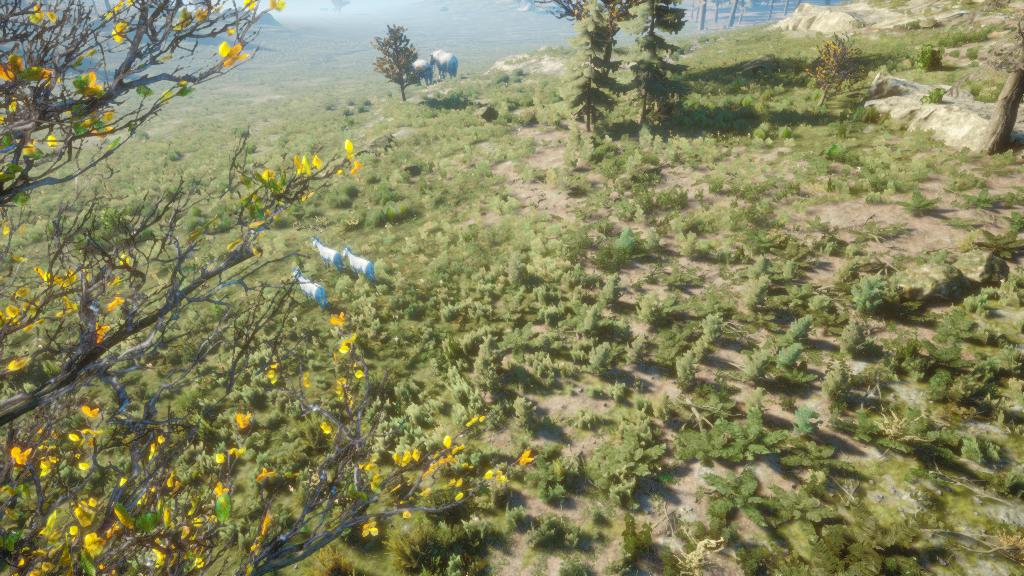zebra: (341, 237, 388, 292), (303, 230, 344, 276)
